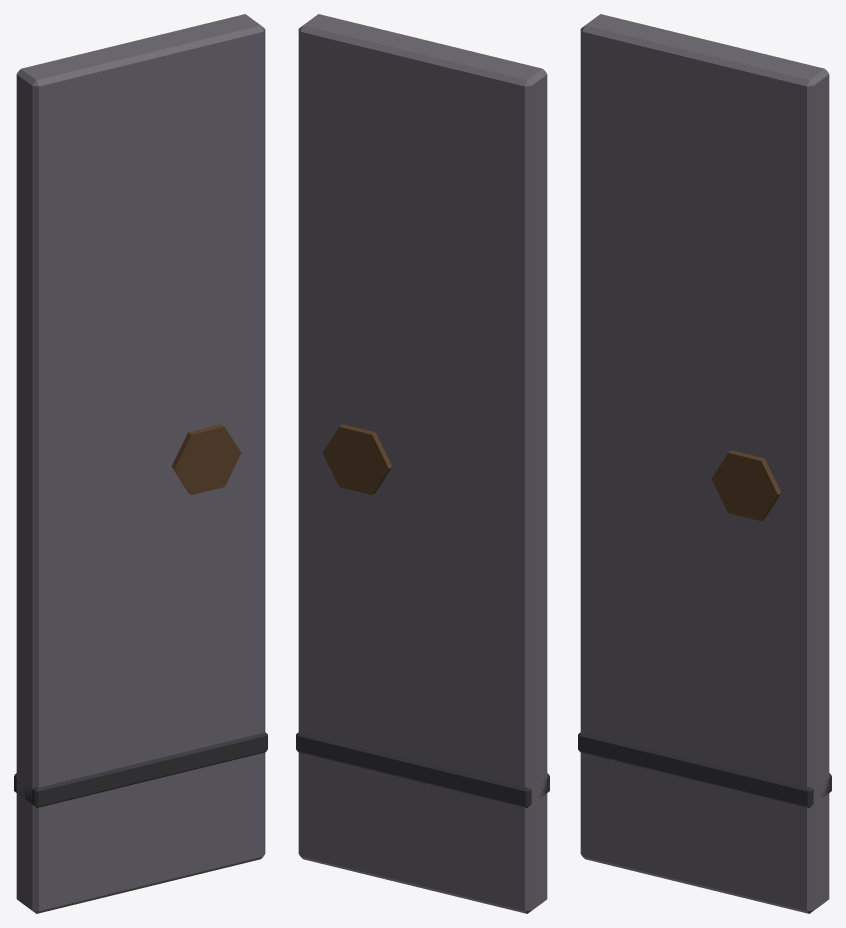
The model's file is Bld_Lab_EchoGate_LeafL_LOD1.glb.
3 views of the same model, side by side, from view 1: azimuth 30°, elevation 25°; view 2: azimuth 150°, elevation 25°; view 3: azimuth 330°, elevation 25° (orthographic).
Parts seen in each view (by area): view 1: Bld_Lab_EchoGate_LeafL; view 2: Bld_Lab_EchoGate_LeafL; view 3: Bld_Lab_EchoGate_LeafL.
Boxes of the visible parts, x1,y1,x2,y2 form: Bld_Lab_EchoGate_LeafL: (14,14,267,913); Bld_Lab_EchoGate_LeafL: (296,14,549,913); Bld_Lab_EchoGate_LeafL: (578,14,831,913).
Bounding box in the file's own units: 0.98 × 3.35 × 0.2.
